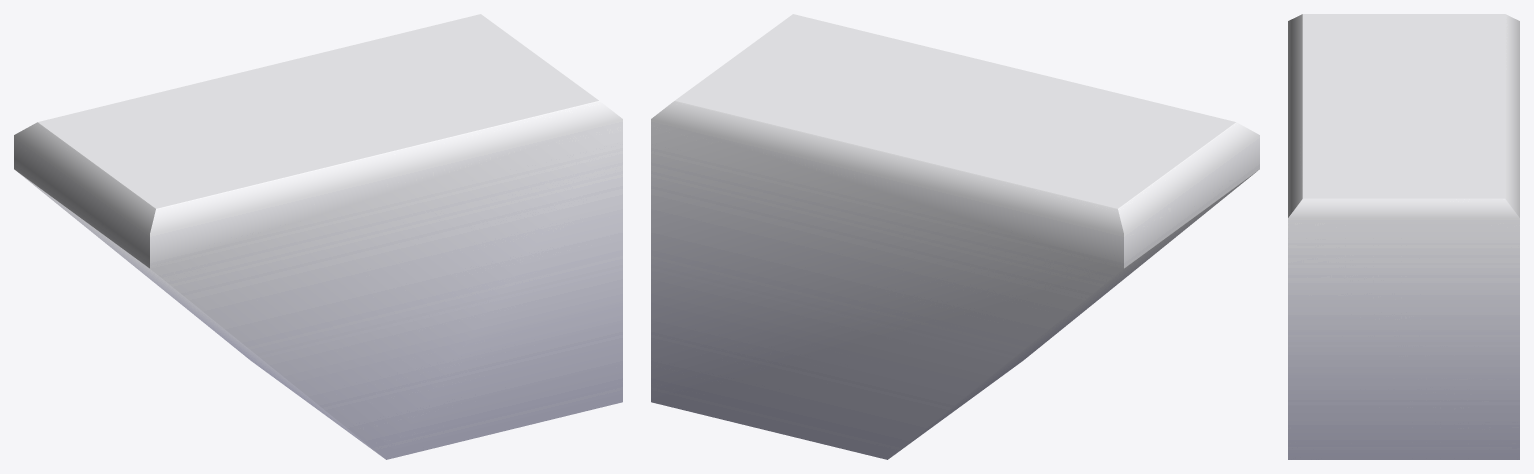
File: brick-kit--none-hq-brick-slope-inverted-1x2.glb
3 views of the same model, side by side, from view 1: azimuth 30°, elevation 25°; view 2: azimuth 150°, elevation 25°; view 3: azimuth 270°, elevation 25° (orthographic). The views are drawn at different scales.
Parts seen in each view (by area): view 1: none-hq-brick-slope-inverted-1x2; view 2: none-hq-brick-slope-inverted-1x2; view 3: none-hq-brick-slope-inverted-1x2.
Boxes of the visible parts, x1=… form: none-hq-brick-slope-inverted-1x2: x1=14, y1=14, x2=622, y2=459; none-hq-brick-slope-inverted-1x2: x1=651, y1=14, x2=1259, y2=459; none-hq-brick-slope-inverted-1x2: x1=1288, y1=14, x2=1519, y2=459.
Bounding box in the file's own units: 0.159 × 0.096 × 0.079.
1 material, 1 textured.
